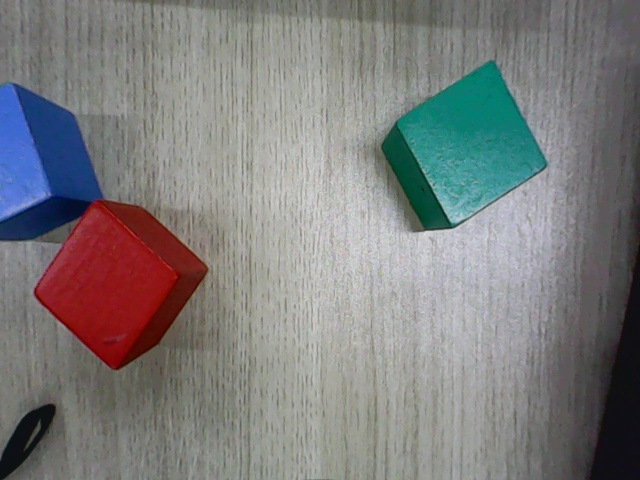upside of big cube: (395, 59, 548, 228), (31, 200, 177, 372), (0, 83, 53, 223)
